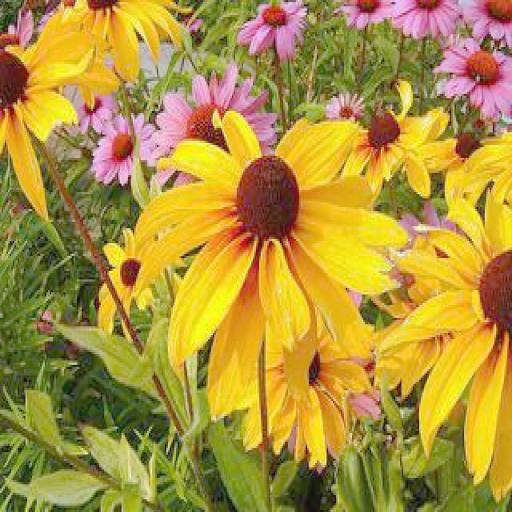sunflower: (132, 111, 398, 382), (401, 187, 512, 501), (96, 232, 182, 326), (438, 38, 512, 126), (91, 111, 157, 186)
